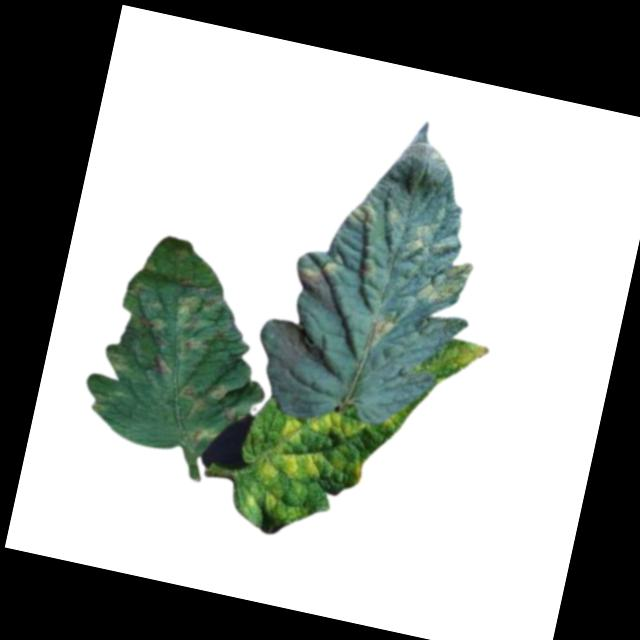Leaf_Mold: (256, 397, 354, 490), (418, 255, 474, 310), (174, 373, 227, 426), (291, 251, 349, 299), (403, 221, 449, 265), (169, 286, 209, 335), (363, 310, 399, 356), (128, 307, 170, 345), (181, 426, 224, 463), (448, 337, 490, 374), (344, 197, 379, 230), (143, 348, 176, 379), (104, 344, 133, 374), (349, 459, 369, 485)
